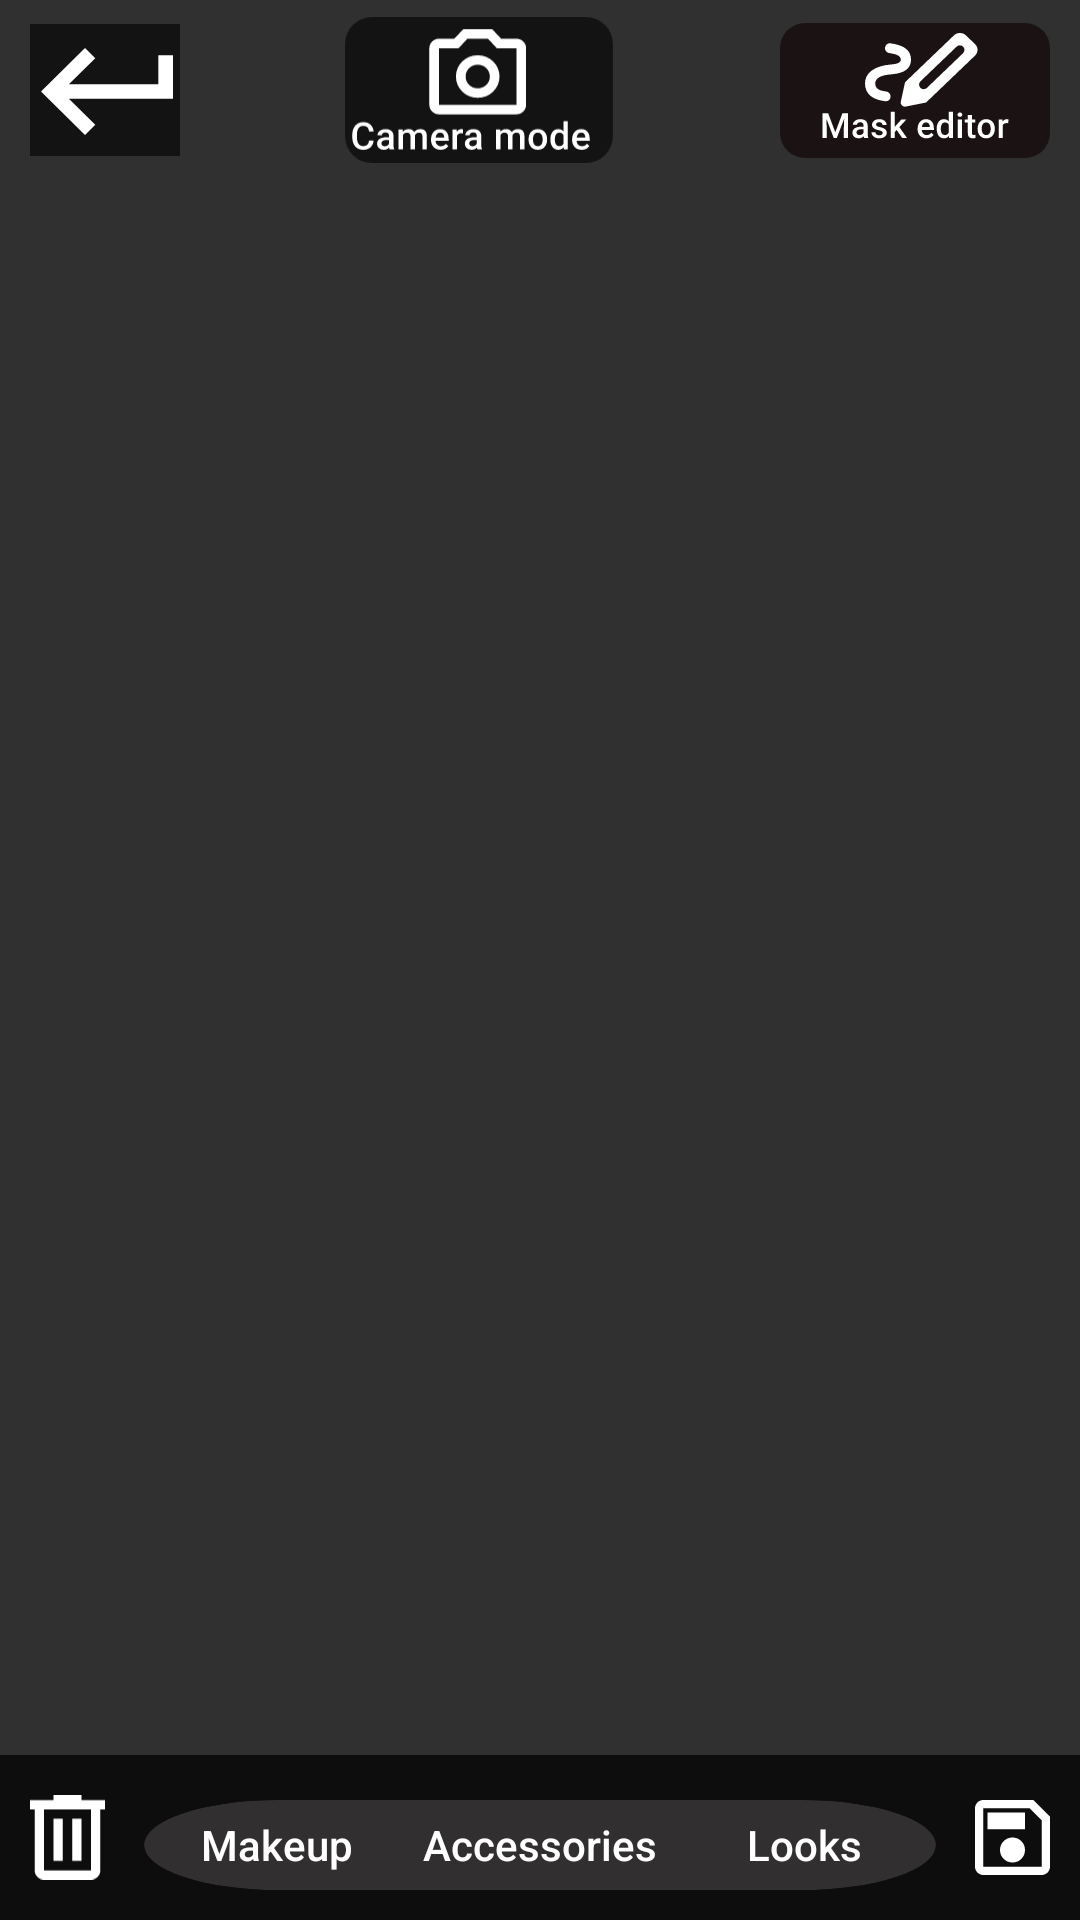

Locate icon controls on the screen. Image size 1080w x 1920h, boxes as (x1, y1, x2, y2).
delete: (30, 1795, 105, 1880)
save: (975, 1800, 1050, 1875)
